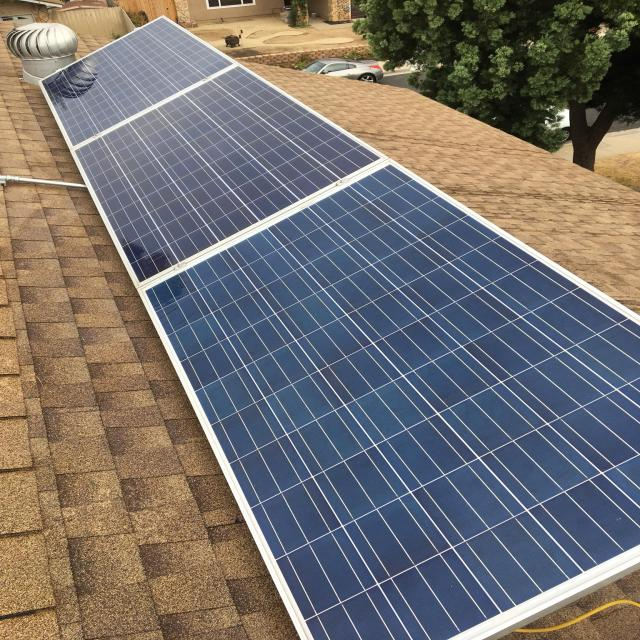clean-solar-panel: (39, 16, 640, 640)
